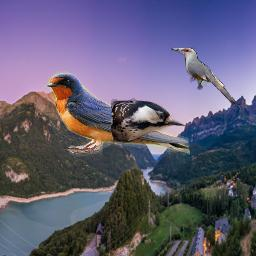Cuckoo: (171, 47, 240, 108)
Swallow: (43, 70, 190, 159)
Woodpecker: (111, 97, 185, 143)
